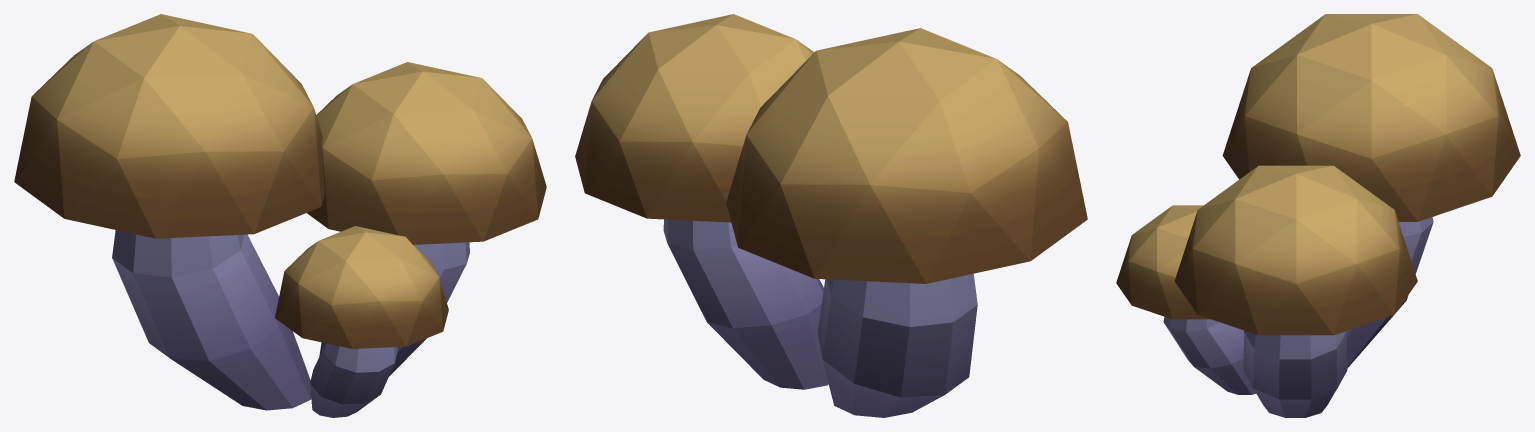
The model's file is pack01_foliage_33.fbx.
3 renders of one model, left to right at view 1: azimuth 30°, elevation 25°; view 2: azimuth 150°, elevation 25°; view 3: azimuth 270°, elevation 25°, orthographic. The views are drawn at different scales.
Parts seen in each view (by area): view 1: Mushroom_big_group_brown; view 2: Mushroom_big_group_brown; view 3: Mushroom_big_group_brown.
Boxes of the visible parts, x1=… form: Mushroom_big_group_brown: x1=14, y1=14, x2=546, y2=417; Mushroom_big_group_brown: x1=575, y1=14, x2=1087, y2=417; Mushroom_big_group_brown: x1=1116, y1=14, x2=1520, y2=417.
Bounding box in the file's own units: 67.71 × 51.18 × 58.01.
Materials: 1 (1 with a texture image).
